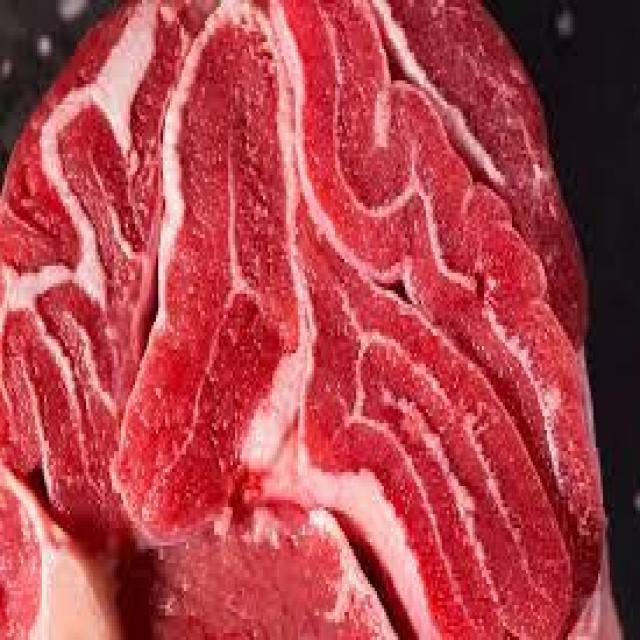Beef: (0, 5, 604, 640)
